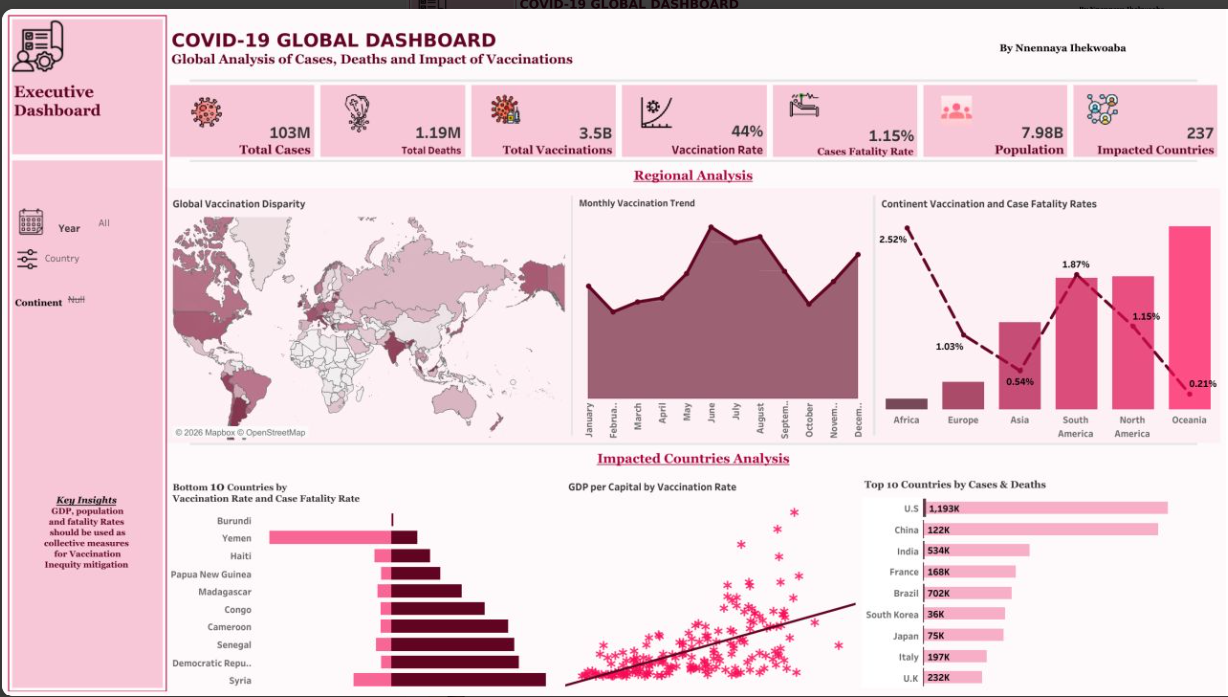

The page's visual inventory and layout, read from the dashboard file:
{"tool":"tableau","page":{"name":"Main Dashboard","canvas":[1600,900],"ordinal":1},"visuals":[{"type":"text","box":[215,8,1082,84]},{"type":"text","box":[1297,8,295,84]},{"type":"text","box":[9,9,205,185]},{"type":"image","param":"C:/Users/nnenn/OneDrive/Full Stack Data Science Practise/Projects/Tableau projec","box":[12,14,89,69]},{"type":"blank","box":[215,92,1377,3]},{"type":"worksheet","title":"Total Cases KPI","mark":"Automatic","box":[215,95,197,102]},{"type":"worksheet","title":"Total Deaths KPI","mark":"Automatic","box":[412,95,197,102]},{"type":"worksheet","title":"Total Vaccinations KPI","mark":"Automatic","box":[609,95,197,102]},{"type":"worksheet","title":"Vaccination Rate KPI ","mark":"Automatic","box":[806,95,197,102]},{"type":"worksheet","title":"Fetality Rate","mark":"Automatic","box":[1003,95,197,102]},{"type":"worksheet","title":"Population KPI","mark":"Automatic","box":[1200,95,196,102]},{"type":"worksheet","title":"Countries KPI (2)","mark":"Automatic","box":[1396,95,196,102]},{"type":"image","param":"C:/Users/nnenn/OneDrive/Full Stack Data Science Practise/Projects/Tableau projec","box":[1028,105,50,40]},{"type":"image","param":"C:/Users/nnenn/OneDrive/Full Stack Data Science Practise/Projects/Tableau projec","box":[439,111,60,50]},{"type":"image","param":"C:/Users/nnenn/OneDrive/Full Stack Data Science Practise/Projects/Tableau projec","box":[638,111,50,40]},{"type":"image","param":"C:/Users/nnenn/OneDrive/Full Stack Data Science Practise/Projects/Tableau projec","box":[1418,111,50,40]},{"type":"image","param":"C:/Users/nnenn/OneDrive/Full Stack Data Science Practise/Projects/Tableau projec","box":[1227,113,50,40]},{"type":"image","param":"C:/Users/nnenn/OneDrive/Full Stack Data Science Practise/Projects/Tableau projec","box":[247,115,50,40]},{"type":"image","param":"C:/Users/nnenn/OneDrive/Full Stack Data Science Practise/Projects/Tableau projec","box":[835,115,50,40]},{"type":"blank","box":[9,194,205,697]},{"type":"blank","box":[215,197,1377,3]},{"type":"text","box":[215,200,1377,34]},{"type":"worksheet","title":"Global vaccination map","mark":"Automatic","box":[215,234,528,333]},{"type":"blank","box":[743,234,3,333]},{"type":"worksheet","title":"Monthly Vaccination Trend","mark":"Automatic","rows":["new_vaccinations","new_vaccinations"],"cols":["date"],"box":[746,234,392,333]},{"type":"blank","box":[1138,234,3,333]},{"type":"worksheet","title":"Continent Vaccination and Case Fetality Rates","mark":"Automatic","rows":["Calculation_1214984084344836","Calculation_1214984083488771"],"cols":["continent"],"box":[1141,234,451,333]},{"type":"image","param":"C:/Users/nnenn/OneDrive/Full Stack Data Science Practise/Projects/Tableau projec","box":[21,261,34,39]},{"type":"filter","title":"Monthly Vaccination Trend","param":"[federated.1nblp2l1vnqjwq16ycivw16kzet4].[yr:date:ok]","box":[52,270,151,31]},{"type":"image","param":"C:/Users/nnenn/OneDrive/Full Stack Data Science Practise/Projects/Tableau projec","box":[20,314,26,29]},{"type":"filter","title":"Global vaccination map","param":"[federated.1nblp2l1vnqjwq16ycivw16kzet4].[none:Calculation_3482175860719617:nk]","box":[54,316,149,31]},{"type":"filter","title":"Continent Vaccination and Case Fetality Rates","param":"[federated.1nblp2l1vnqjwq16ycivw16kzet4].[none:continent:nk]","box":[12,370,190,28]},{"type":"text","box":[19,558,183,252]},{"type":"blank","box":[215,567,1377,3]},{"type":"text","box":[215,570,1377,34]},{"type":"worksheet","title":"Bottom 10 countries","mark":"Automatic","rows":["location"],"box":[215,604,517,288]},{"type":"worksheet","title":"Vaccination Rate vs. GDP per Capital","mark":"Automatic","rows":["Calculation_1214984077893633"],"cols":["Calculation_1214984083488771"],"box":[732,604,387,288]},{"type":"worksheet","title":"Top Cases & Deaths","mark":"Bar","rows":["location"],"cols":["new_cases","new_deaths"],"box":[1119,604,473,288]}]}

Visuals, with their boxes in screenshot pixels (x1, y1, x2, y2), scaled from the page's 1600x900 canvas onto the 1228x697 screenshot:
text: {"x1": 165, "y1": 6, "x2": 995, "y2": 71}
text: {"x1": 995, "y1": 6, "x2": 1222, "y2": 71}
text: {"x1": 7, "y1": 7, "x2": 164, "y2": 150}
image: {"x1": 9, "y1": 11, "x2": 78, "y2": 64}
blank: {"x1": 165, "y1": 71, "x2": 1222, "y2": 74}
"Total Cases KPI" worksheet: {"x1": 165, "y1": 74, "x2": 316, "y2": 153}
"Total Deaths KPI" worksheet: {"x1": 316, "y1": 74, "x2": 467, "y2": 153}
"Total Vaccinations KPI" worksheet: {"x1": 467, "y1": 74, "x2": 619, "y2": 153}
"Vaccination Rate KPI " worksheet: {"x1": 619, "y1": 74, "x2": 770, "y2": 153}
"Fetality Rate" worksheet: {"x1": 770, "y1": 74, "x2": 921, "y2": 153}
"Population KPI" worksheet: {"x1": 921, "y1": 74, "x2": 1071, "y2": 153}
"Countries KPI (2)" worksheet: {"x1": 1071, "y1": 74, "x2": 1222, "y2": 153}
image: {"x1": 789, "y1": 81, "x2": 827, "y2": 112}
image: {"x1": 337, "y1": 86, "x2": 383, "y2": 125}
image: {"x1": 490, "y1": 86, "x2": 528, "y2": 117}
image: {"x1": 1088, "y1": 86, "x2": 1127, "y2": 117}
image: {"x1": 942, "y1": 88, "x2": 980, "y2": 118}
image: {"x1": 190, "y1": 89, "x2": 228, "y2": 120}
image: {"x1": 641, "y1": 89, "x2": 679, "y2": 120}
blank: {"x1": 7, "y1": 150, "x2": 164, "y2": 690}
blank: {"x1": 165, "y1": 153, "x2": 1222, "y2": 155}
text: {"x1": 165, "y1": 155, "x2": 1222, "y2": 181}
"Global vaccination map" worksheet: {"x1": 165, "y1": 181, "x2": 570, "y2": 439}
blank: {"x1": 570, "y1": 181, "x2": 573, "y2": 439}
"Monthly Vaccination Trend" worksheet: {"x1": 573, "y1": 181, "x2": 873, "y2": 439}
blank: {"x1": 873, "y1": 181, "x2": 876, "y2": 439}
"Continent Vaccination and Case Fetality Rates" worksheet: {"x1": 876, "y1": 181, "x2": 1222, "y2": 439}
image: {"x1": 16, "y1": 202, "x2": 42, "y2": 232}
"Monthly Vaccination Trend" filter: {"x1": 40, "y1": 209, "x2": 156, "y2": 233}
image: {"x1": 15, "y1": 243, "x2": 35, "y2": 266}
"Global vaccination map" filter: {"x1": 41, "y1": 245, "x2": 156, "y2": 269}
"Continent Vaccination and Case Fetality Rates" filter: {"x1": 9, "y1": 287, "x2": 155, "y2": 308}
text: {"x1": 15, "y1": 432, "x2": 155, "y2": 627}
blank: {"x1": 165, "y1": 439, "x2": 1222, "y2": 441}
text: {"x1": 165, "y1": 441, "x2": 1222, "y2": 468}
"Bottom 10 countries" worksheet: {"x1": 165, "y1": 468, "x2": 562, "y2": 691}
"Vaccination Rate vs. GDP per Capital" worksheet: {"x1": 562, "y1": 468, "x2": 859, "y2": 691}
"Top Cases & Deaths" worksheet (Bar marks): {"x1": 859, "y1": 468, "x2": 1222, "y2": 691}
